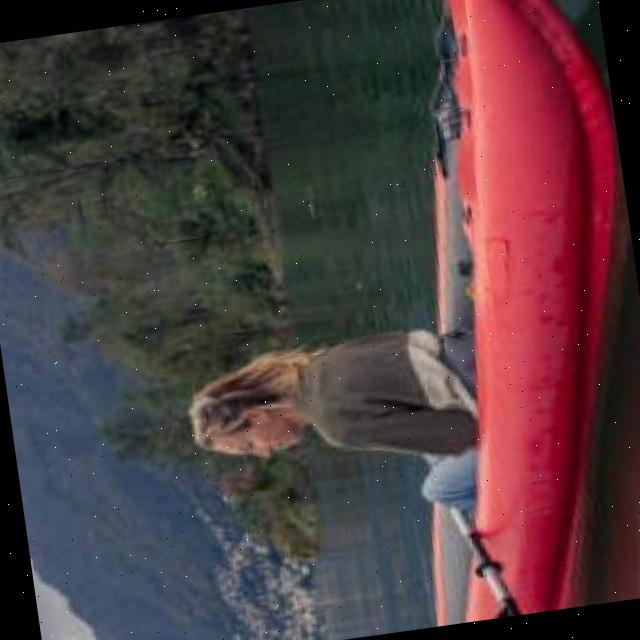kayak: (430, 0, 617, 627)
